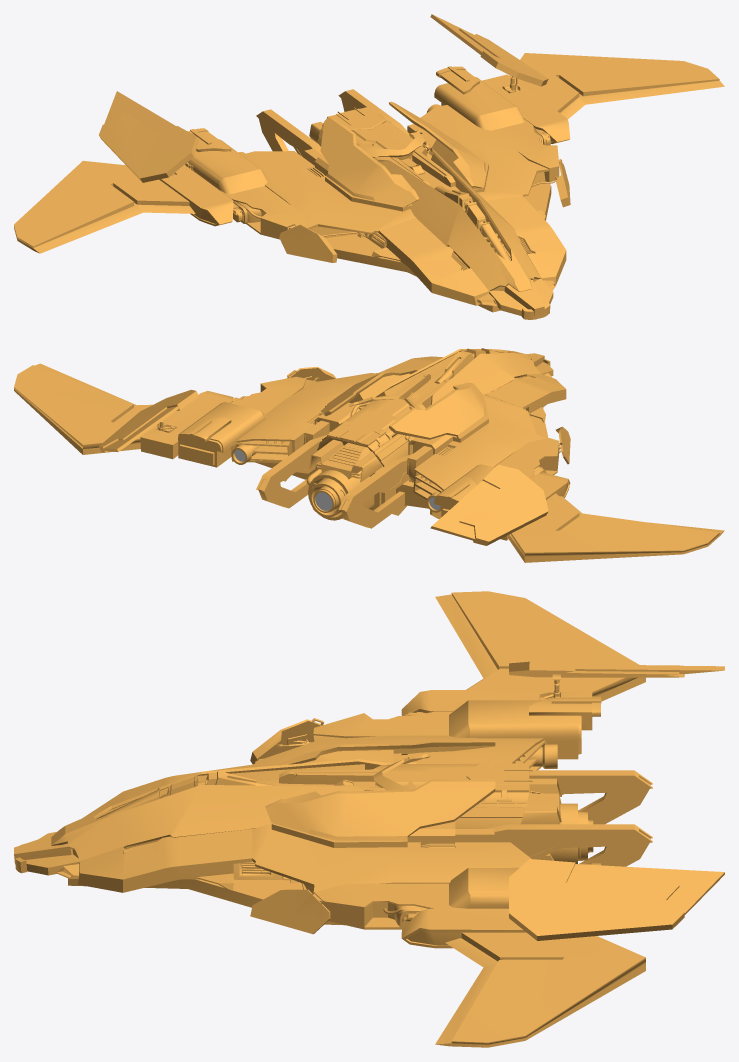
File: Exohelian.fbx
3 renders of one model, top to bottom at view 1: azimuth 30°, elevation 25°; view 2: azimuth 150°, elevation 25°; view 3: azimuth 270°, elevation 25°, orthographic. The views are drawn at different scales.
Parts seen in each view (by area): view 1: Exohelian.01.000, Exohelian.02.000, Exohelian.00.000; view 2: Exohelian.01.000, Exohelian.02.000, Exohelian.00.000, Exohelian.00.002; view 3: Exohelian.01.000, Exohelian.02.000, Exohelian.00.000.
Part boxes in pixels (box(x1,y1,x2,y2)): Exohelian.01.000: box(184, 66, 570, 319); Exohelian.02.000: box(14, 14, 724, 253); Exohelian.00.000: box(238, 89, 440, 165); Exohelian.01.000: box(178, 348, 570, 516); Exohelian.02.000: box(14, 363, 724, 562); Exohelian.00.000: box(231, 420, 442, 528); Exohelian.00.002: box(234, 449, 440, 510); Exohelian.01.000: box(14, 696, 601, 934); Exohelian.02.000: box(383, 591, 724, 1047); Exohelian.00.000: box(455, 740, 652, 866).
Bounding box in the file's own units: 1886 × 234 × 1256.
